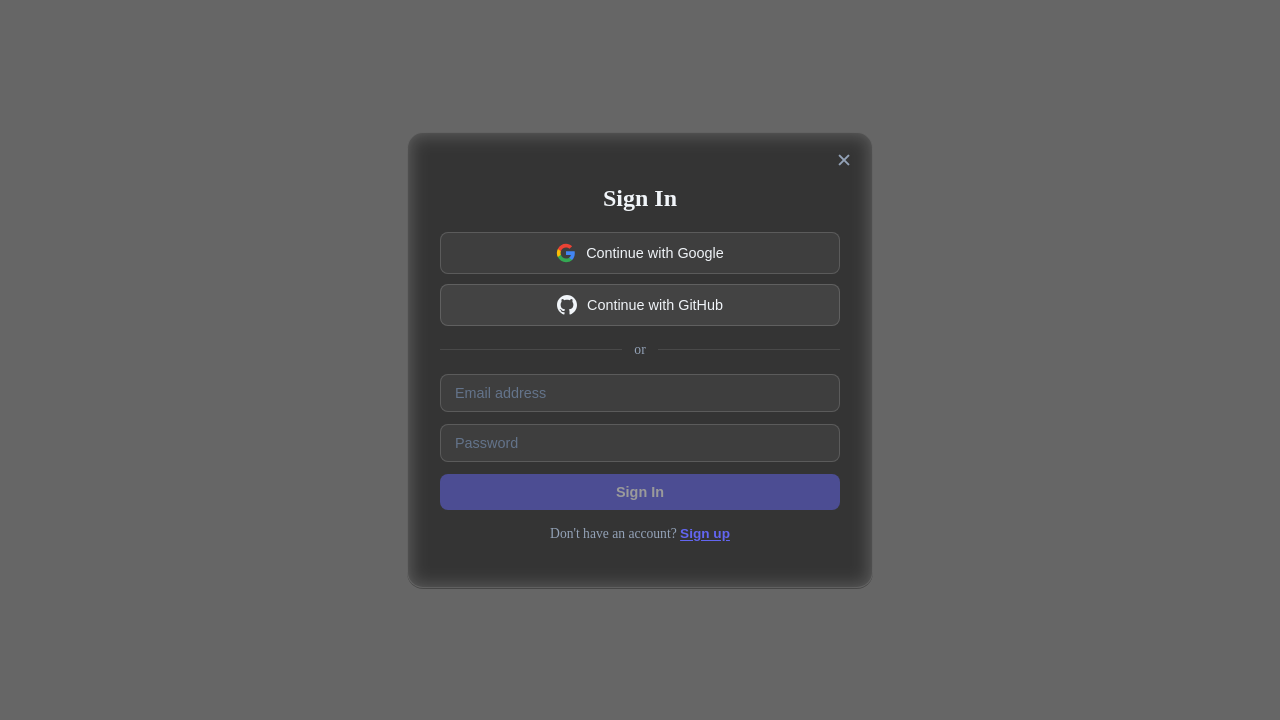
Test case: SignInModal (AUTH-004, AUTH-005, AUTH-006) › login/signup toggle › should switch to signup mode when toggle is clicked
The width and height of the screenshot is (1280, 720).
Click the button with test id "btn-toggle-signup" at coordinates (705, 533), box x1=680 y1=526 x2=730 y2=541
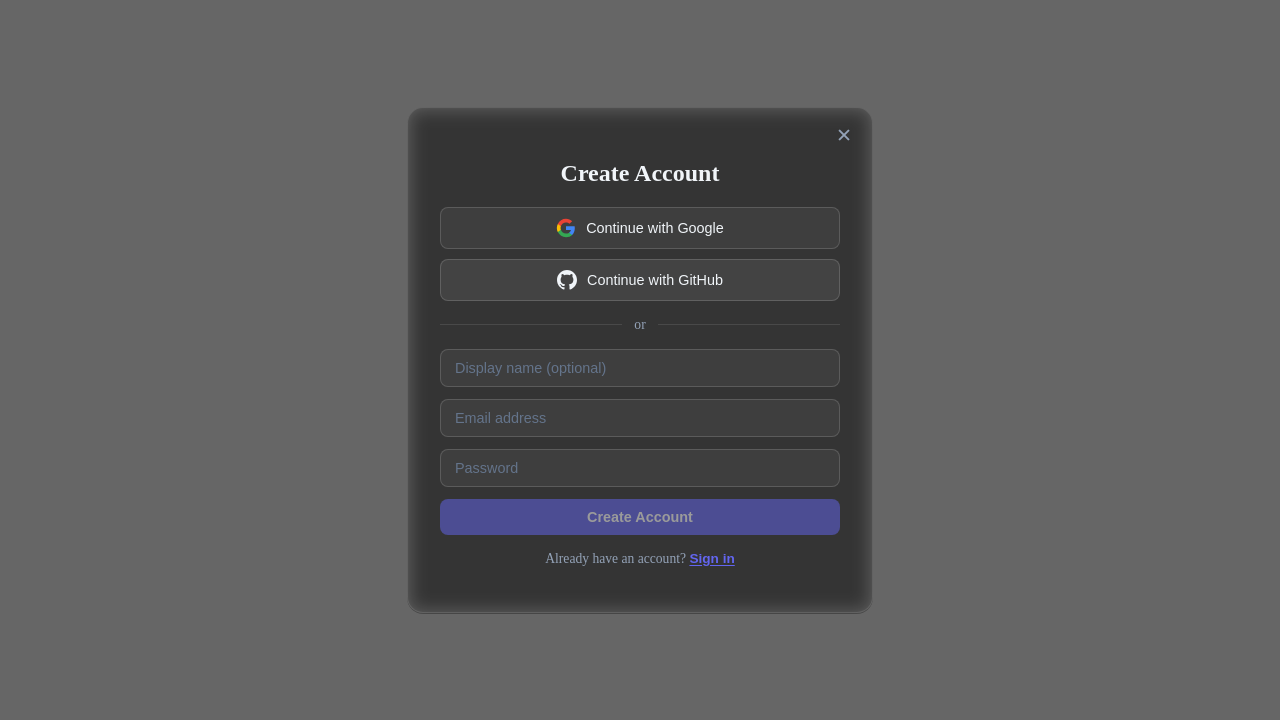
Result: the heading with test id "signin-modal-title" reads "Create Account" at x1=561 y1=160 x2=720 y2=186
